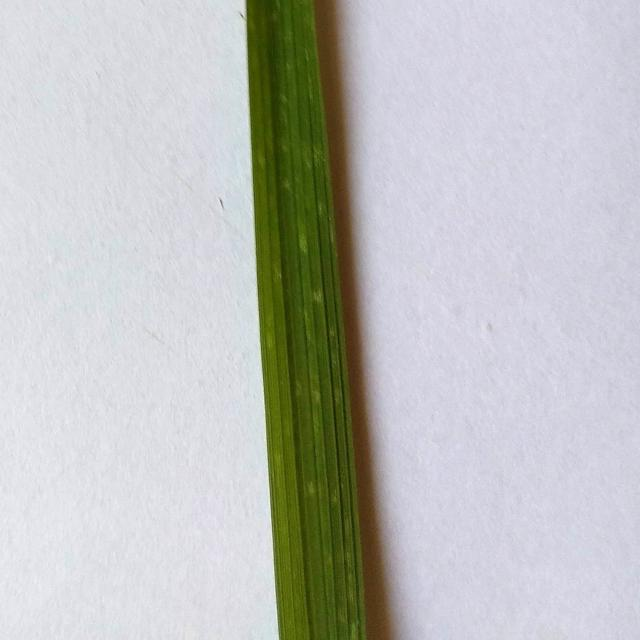Rice_Healthy: (246, 0, 365, 640)
